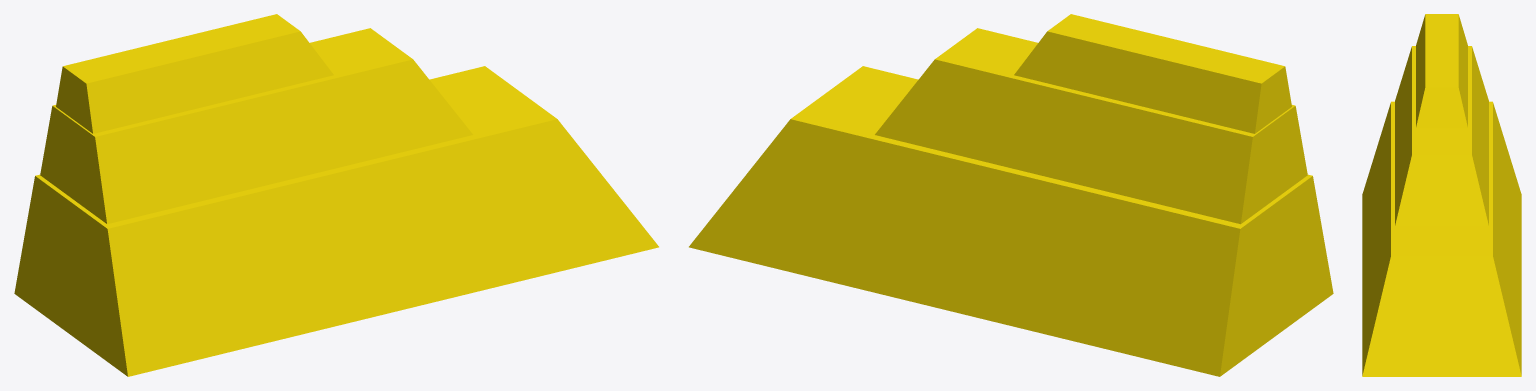
Rendered from crocWall1.gltf.
3 views of the same model, side by side, from view 1: azimuth 30°, elevation 25°; view 2: azimuth 150°, elevation 25°; view 3: azimuth 270°, elevation 25° (orthographic). The views are drawn at different scales.
Visible parts, largest first — view 1: Cube, Cube.001, Cube.002; view 2: Cube, Cube.001, Cube.002; view 3: Cube, Cube.001, Cube.002.
Part boxes in pixels (x1,y1,x2,y2): Cube: (14, 66, 658, 376); Cube.001: (40, 28, 472, 224); Cube.002: (56, 14, 333, 133); Cube: (689, 66, 1333, 376); Cube.001: (875, 28, 1307, 224); Cube.002: (1014, 14, 1291, 133); Cube: (1362, 101, 1521, 376); Cube.001: (1395, 46, 1488, 226); Cube.002: (1416, 14, 1467, 128).
Bounding box in the file's own units: 13.34 × 6.23 × 4.94.
